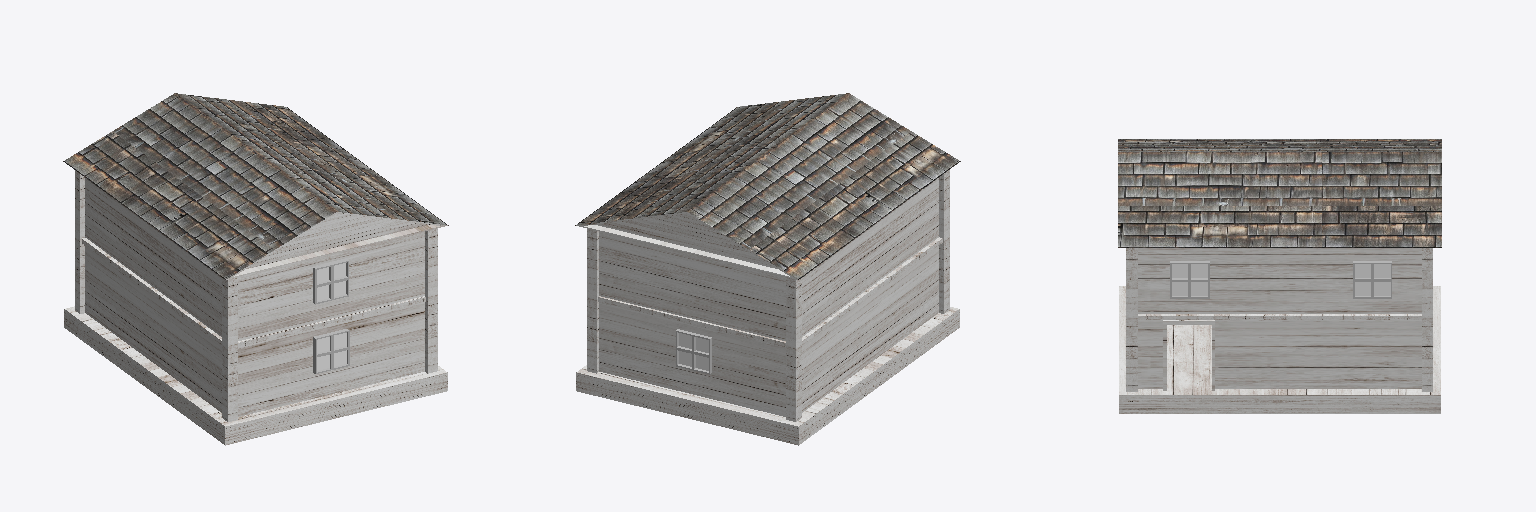
3 renders of one model, left to right at view 1: azimuth 30°, elevation 25°; view 2: azimuth 150°, elevation 25°; view 3: azimuth 270°, elevation 25°, orthographic.
Parts seen in each view (by area): view 1: Plane.001, house, фундамент, colonna_1.002, under_second_floor, colonna_1, window.003, colonna_1.003, window.002; view 2: house, Plane.001, фундамент, colonna_1.003, under_second_floor, colonna_1.001, colonna_1.002, window.001; view 3: Plane.001, house, фундамент, colonna_1, under_second_floor, colonna_1.001, window.004, window.005.
Part boxes in pixels (bbox=[...]): Plane.001: bbox=[63, 93, 448, 279]; house: bbox=[85, 178, 424, 416]; фундамент: bbox=[64, 306, 447, 445]; colonna_1.002: bbox=[222, 277, 237, 421]; under_second_floor: bbox=[82, 238, 425, 346]; colonna_1: bbox=[425, 228, 437, 373]; window.003: bbox=[313, 329, 349, 373]; colonna_1.003: bbox=[75, 170, 84, 313]; window.002: bbox=[313, 259, 348, 304]; house: bbox=[599, 178, 938, 416]; Plane.001: bbox=[575, 93, 960, 279]; фундамент: bbox=[576, 307, 959, 445]; colonna_1.003: bbox=[786, 277, 801, 421]; under_second_floor: bbox=[598, 237, 942, 346]; colonna_1.001: bbox=[587, 229, 598, 373]; colonna_1.002: bbox=[939, 170, 949, 313]; window.001: bbox=[676, 329, 711, 374]; Plane.001: bbox=[1118, 139, 1441, 247]; house: bbox=[1138, 248, 1421, 390]; фундамент: bbox=[1119, 286, 1440, 413]; colonna_1: bbox=[1126, 248, 1137, 391]; under_second_floor: bbox=[1138, 314, 1421, 319]; colonna_1.001: bbox=[1422, 248, 1432, 391]; window.004: bbox=[1170, 261, 1209, 298]; window.005: bbox=[1353, 261, 1391, 298].
Size of the model in its own units: 16.24 by 14.37 by 20.41.
10 materials, 2 textured.